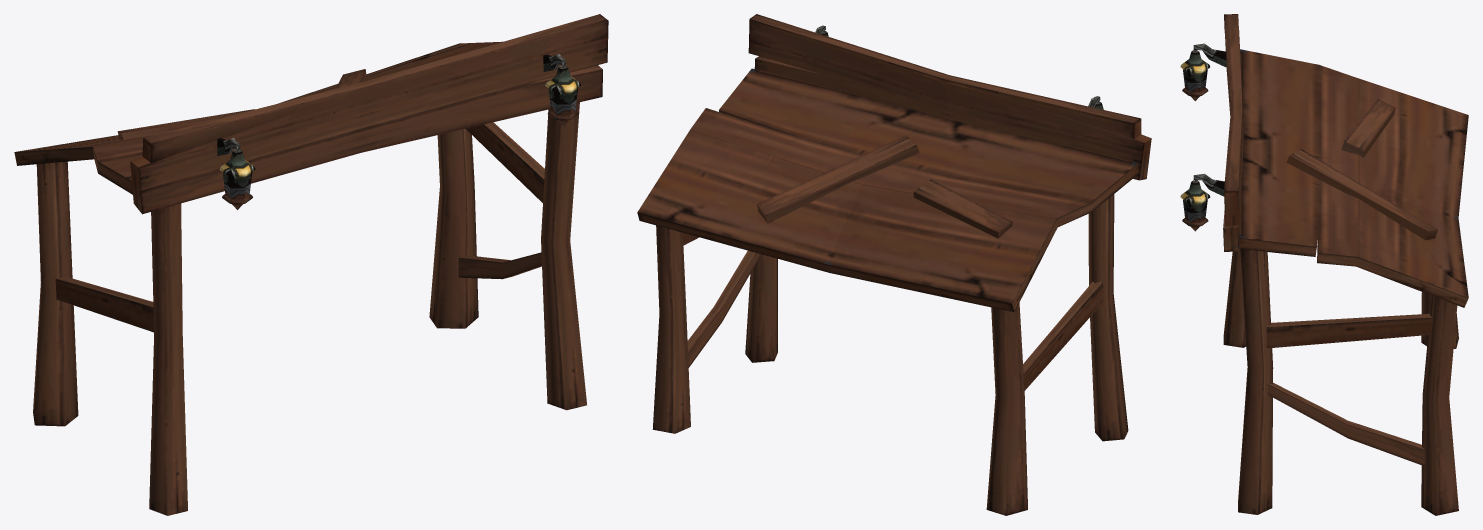
The model's file is 2_YiZhan_ChePeng_01.FBX.
The picture shows the model from 3 angles, left to right: view 1: azimuth 30°, elevation 25°; view 2: azimuth 150°, elevation 25°; view 3: azimuth 270°, elevation 25°; orthographic projection. The views are drawn at different scales.
Parts seen in each view (by area): view 1: 2_YiZhan_ChePeng_01; view 2: 2_YiZhan_ChePeng_01; view 3: 2_YiZhan_ChePeng_01.
Part boxes in pixels (bbox=[...]): 2_YiZhan_ChePeng_01: bbox=[14, 14, 608, 515]; 2_YiZhan_ChePeng_01: bbox=[637, 14, 1151, 515]; 2_YiZhan_ChePeng_01: bbox=[1180, 14, 1468, 515].
Size of the model in its own units: 615 by 482 by 386.
